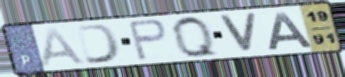A: (39, 27, 91, 69), (266, 10, 314, 52)
D: (74, 22, 123, 66)
P: (125, 18, 170, 62)
Q: (170, 14, 223, 59)
V: (216, 12, 259, 54)
